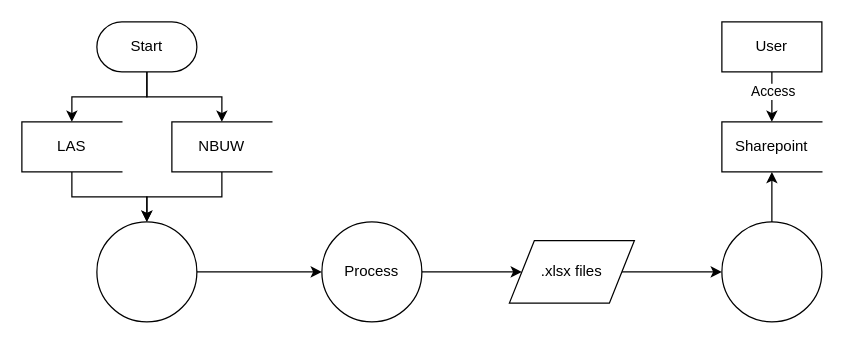
This 844x344 diagram has some shape labels left out. Each missing label, with the centre of its shape:
Extract: pixel 771 271
Mapping: pixel 146 271
